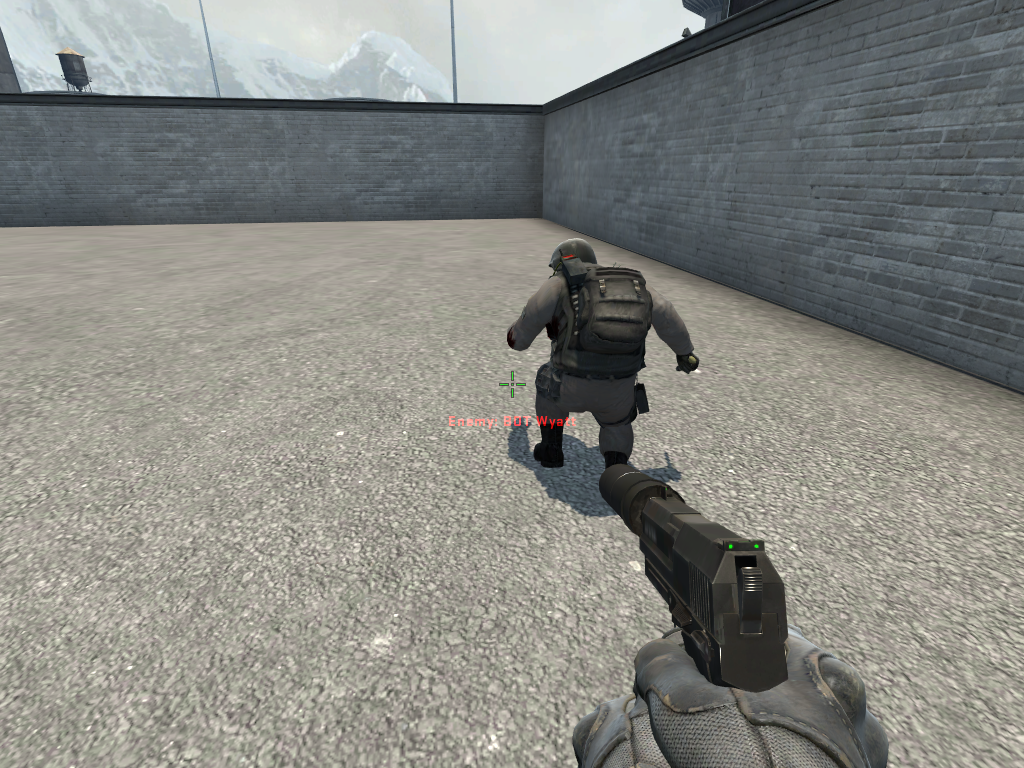ct head: (545, 235, 604, 292)
